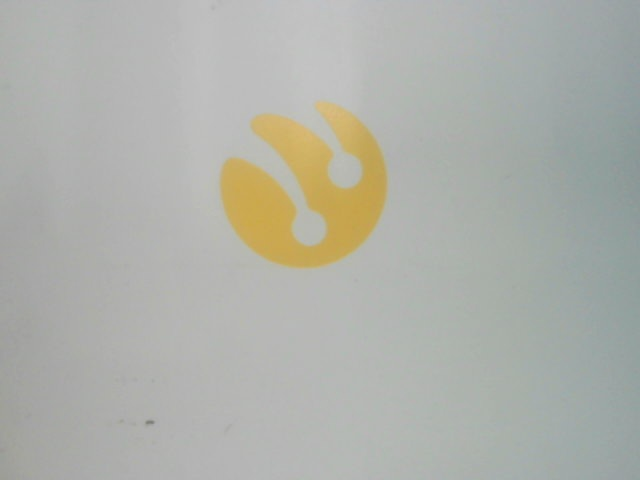AV_H3600Yellow: (201, 96, 393, 270)
